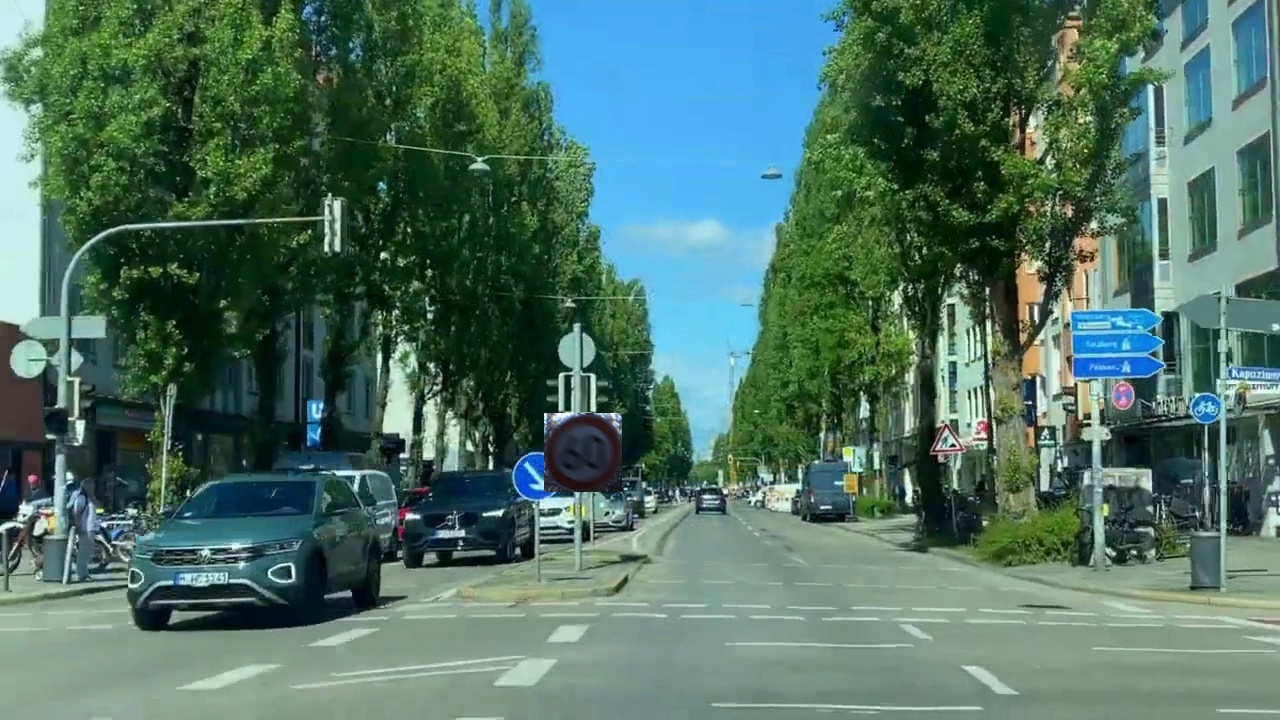Speed 60: (544, 413, 622, 492)
